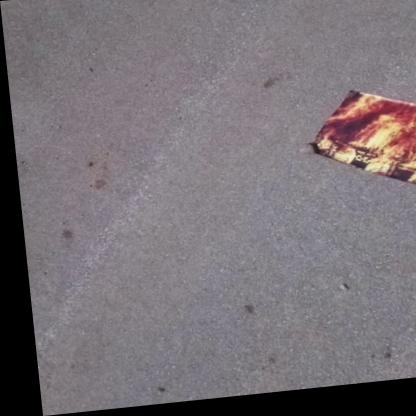fire-poster: (291, 88, 416, 205)
